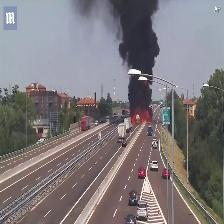fire: (129, 104, 154, 125)
